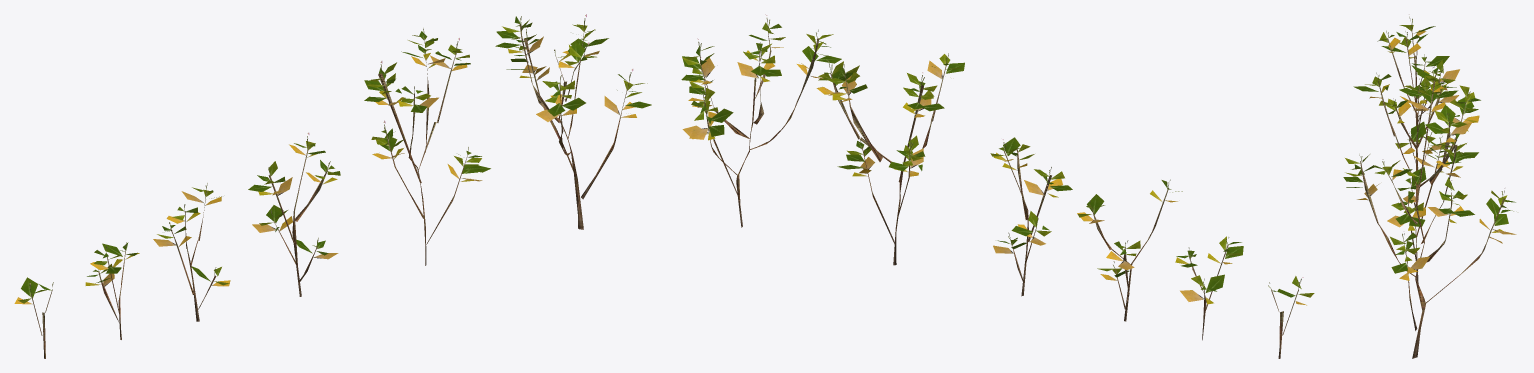
File: periwinkle_plant.glb
The picture shows the model from 3 angles, left to right: view 1: azimuth 30°, elevation 25°; view 2: azimuth 150°, elevation 25°; view 3: azimuth 270°, elevation 25°; orthographic projection. The views are drawn at different scales.
Visible parts, largest first — view 1: periwinkle_plant_01_LOD0, periwinkle_plant_02_LOD0, periwinkle_plant_03_LOD0, periwinkle_plant_04_LOD0, periwinkle_plant_05_LOD0, periwinkle_plant_06_LOD0; view 2: periwinkle_plant_01_LOD0, periwinkle_plant_02_LOD0, periwinkle_plant_03_LOD0, periwinkle_plant_04_LOD0, periwinkle_plant_05_LOD0; view 3: periwinkle_plant_01_LOD0, periwinkle_plant_02_LOD0, periwinkle_plant_03_LOD0, periwinkle_plant_04_LOD0, periwinkle_plant_05_LOD0, periwinkle_plant_06_LOD0.
Boxes of the visible parts, x1=… form: periwinkle_plant_01_LOD0: x1=495, y1=14, x2=651, y2=229; periwinkle_plant_02_LOD0: x1=364, y1=28, x2=490, y2=265; periwinkle_plant_03_LOD0: x1=248, y1=132, x2=340, y2=296; periwinkle_plant_04_LOD0: x1=153, y1=183, x2=230, y2=321; periwinkle_plant_05_LOD0: x1=85, y1=242, x2=139, y2=339; periwinkle_plant_06_LOD0: x1=14, y1=277, x2=53, y2=358; periwinkle_plant_01_LOD0: x1=681, y1=14, x2=841, y2=227; periwinkle_plant_02_LOD0: x1=816, y1=53, x2=964, y2=265; periwinkle_plant_03_LOD0: x1=990, y1=137, x2=1072, y2=296; periwinkle_plant_04_LOD0: x1=1077, y1=179, x2=1182, y2=321; periwinkle_plant_05_LOD0: x1=1175, y1=236, x2=1243, y2=340; periwinkle_plant_01_LOD0: x1=1343, y1=138, x2=1516, y2=358; periwinkle_plant_02_LOD0: x1=1353, y1=66, x2=1480, y2=283; periwinkle_plant_03_LOD0: x1=1379, y1=77, x2=1450, y2=206; periwinkle_plant_04_LOD0: x1=1377, y1=30, x2=1459, y2=162; periwinkle_plant_05_LOD0: x1=1381, y1=31, x2=1449, y2=125; periwinkle_plant_06_LOD0: x1=1399, y1=14, x2=1435, y2=102.
Bounding box in the file's own units: 1.23 × 0.4008 × 0.3088.
Materials: 1 (1 with a texture image).
